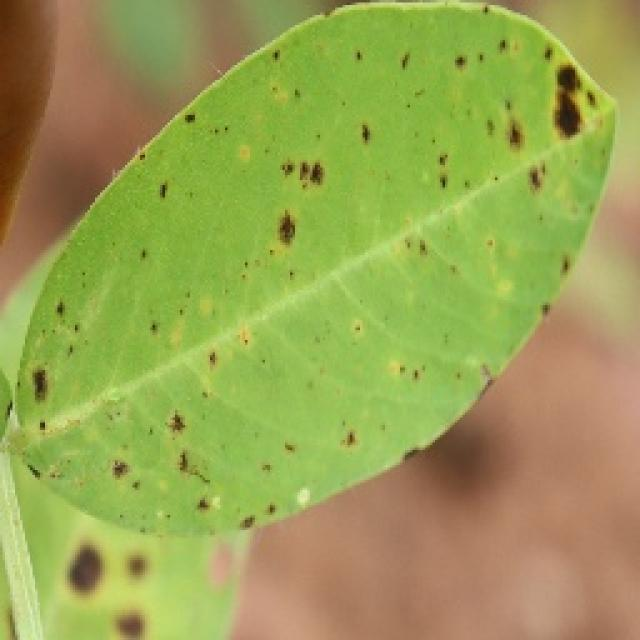Yellowish: (0, 1, 606, 585)
